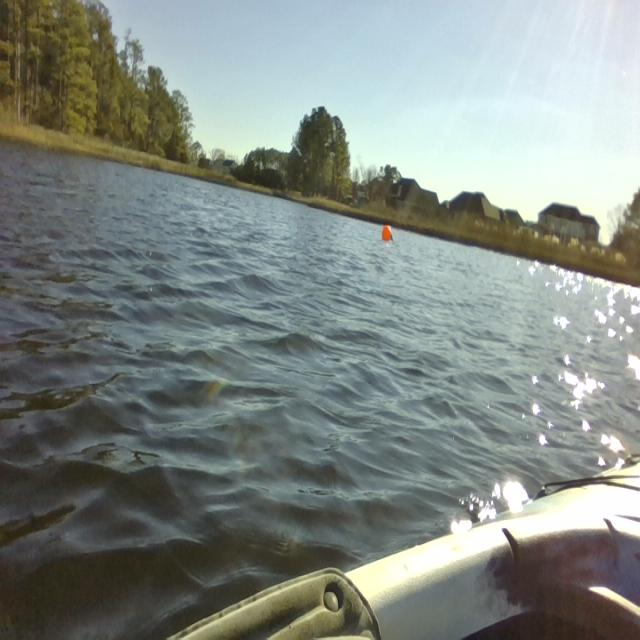Buoy: (376, 220, 399, 249)
